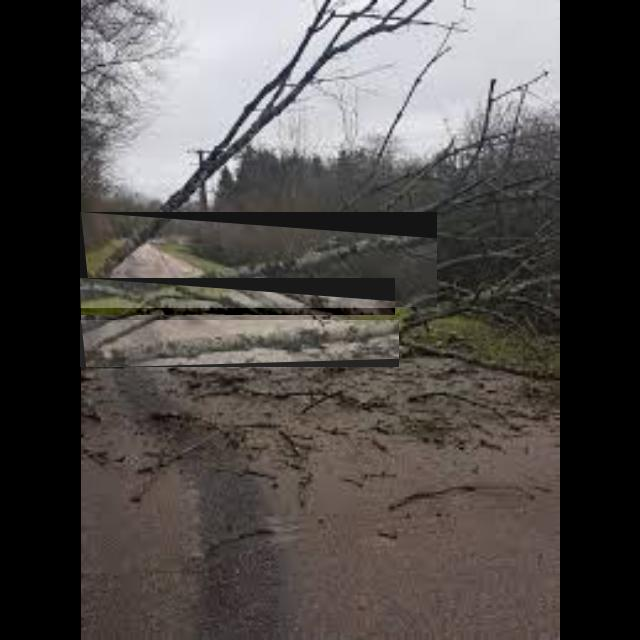Fallen Tree: (80, 212, 438, 308), (80, 320, 400, 368), (80, 278, 396, 316)
